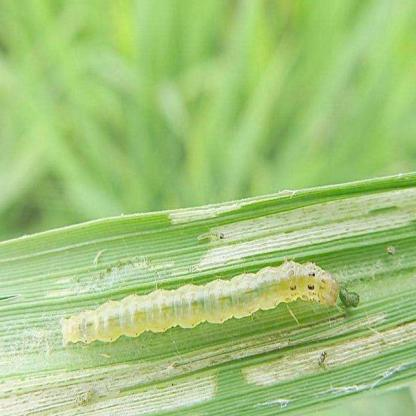leaf-folder: (27, 256, 373, 348)
